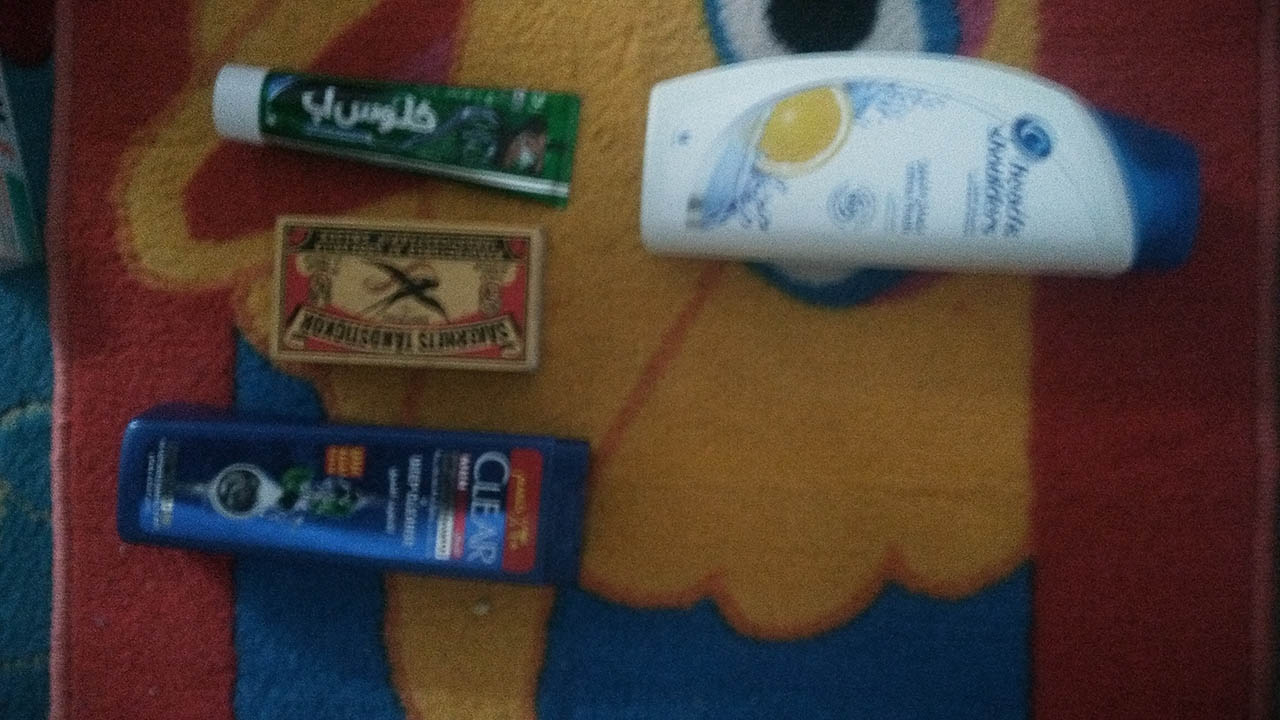Shampoo-Clear 4.7$: (97, 420, 606, 571)
Toothpaste-Closeup 3.04$: (197, 47, 579, 215)
match-sticks .90$: (258, 222, 551, 369)
shampoo-Lemon 3.5$: (621, 53, 1245, 279)
